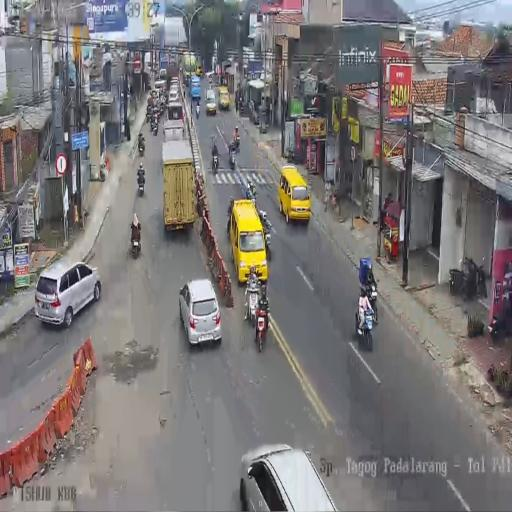car: (238, 444, 343, 512), (34, 260, 100, 328), (229, 198, 268, 284), (180, 279, 222, 347), (278, 165, 310, 224), (219, 86, 230, 110), (206, 89, 216, 115), (155, 78, 167, 95), (158, 66, 167, 80), (196, 65, 202, 77)
motorcycle: (254, 298, 271, 352), (130, 218, 141, 257), (210, 145, 219, 172), (228, 143, 237, 169), (136, 173, 144, 196), (138, 133, 145, 156), (152, 116, 158, 136), (195, 100, 200, 118), (239, 99, 244, 115)
truck: (162, 138, 196, 234), (167, 78, 183, 120), (183, 54, 198, 77), (190, 75, 202, 100), (144, 52, 152, 72)
